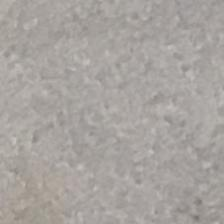Non_Crack: (10, 12, 224, 215)
